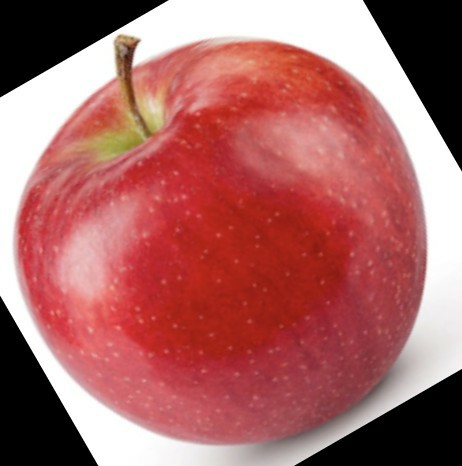fresh_apple: (12, 34, 425, 443)
